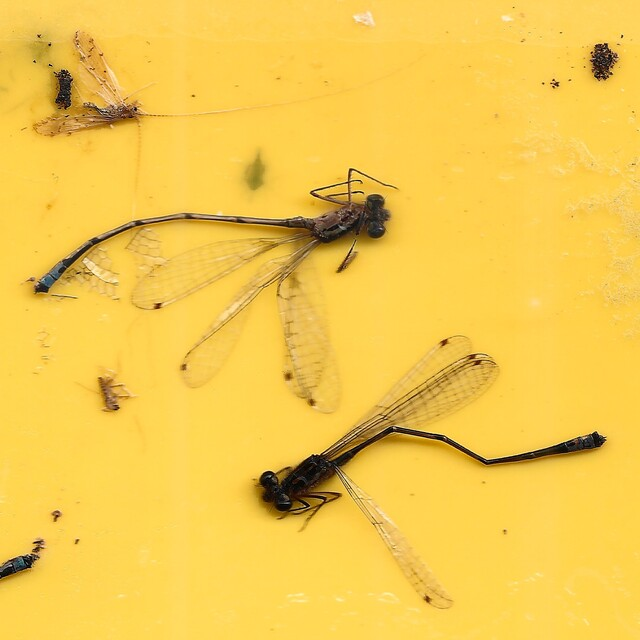Nematocera: (95, 373, 135, 414)
Odonata: (251, 334, 610, 611), (30, 169, 400, 412)
Plecoptera: (32, 29, 146, 137)
